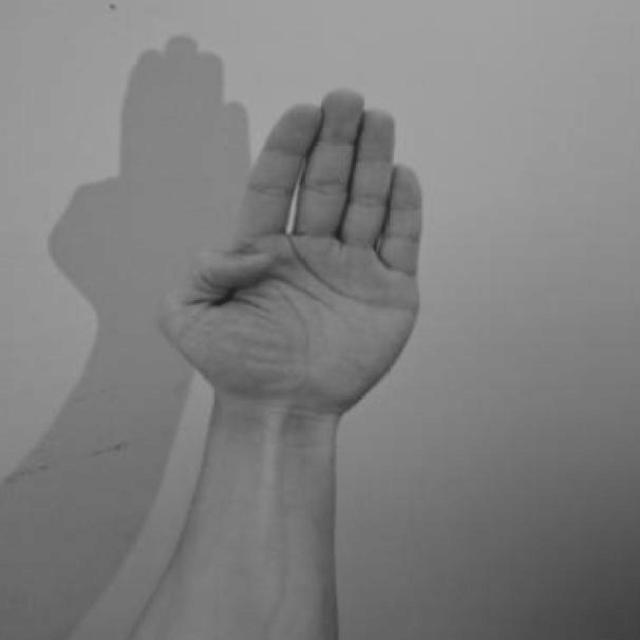B: (140, 82, 483, 441)
